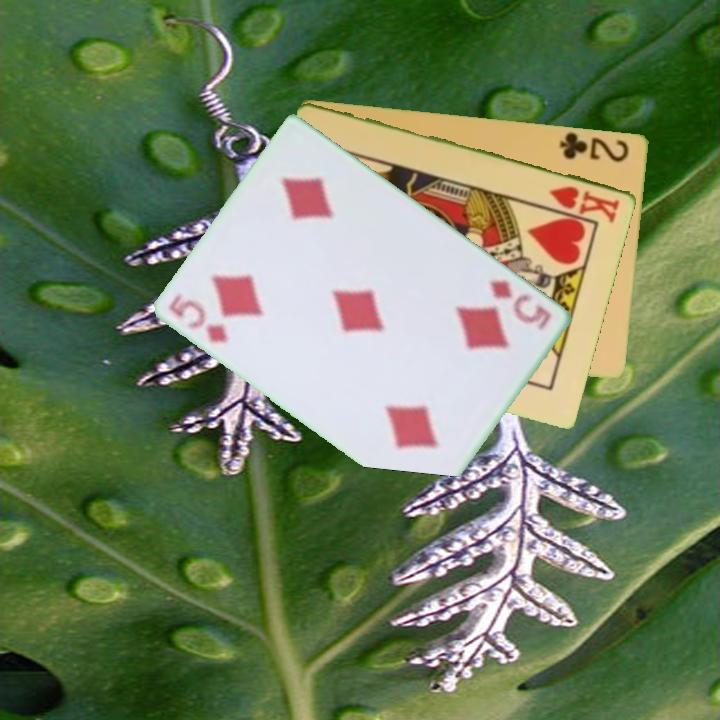2c: (556, 129, 632, 165)
5d: (485, 276, 555, 333), (166, 290, 232, 346)
Kh: (546, 182, 623, 225)
